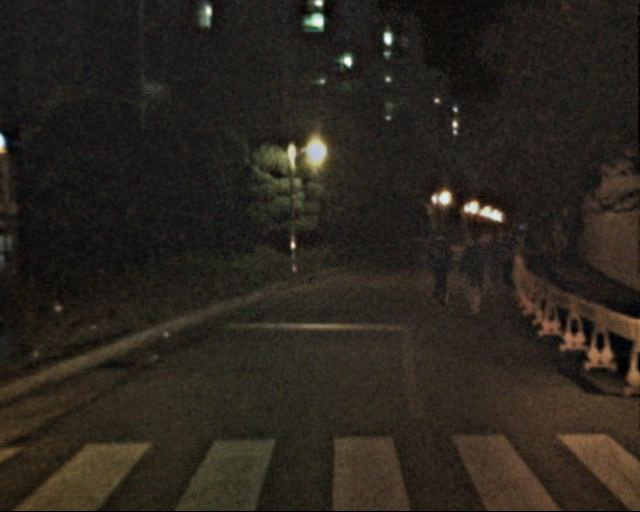person: (422, 230, 457, 315), (454, 234, 488, 318), (498, 227, 525, 292), (484, 235, 509, 296)
